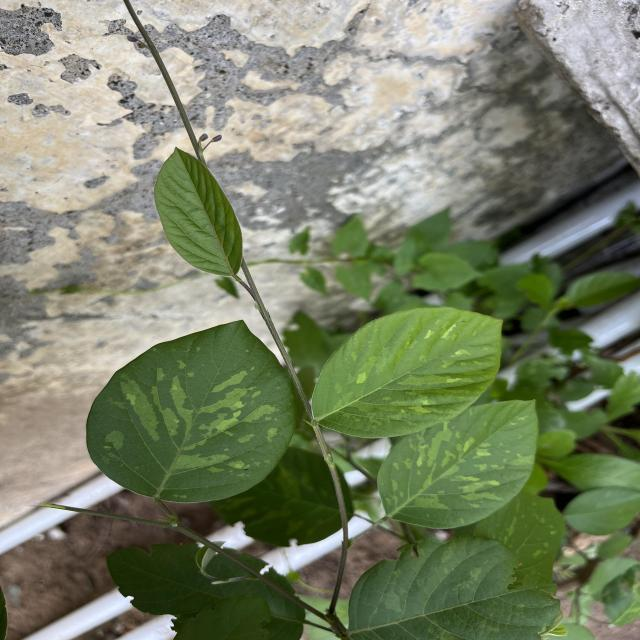Desmodium gangeticum: (84, 318, 300, 506), (309, 304, 507, 441)
